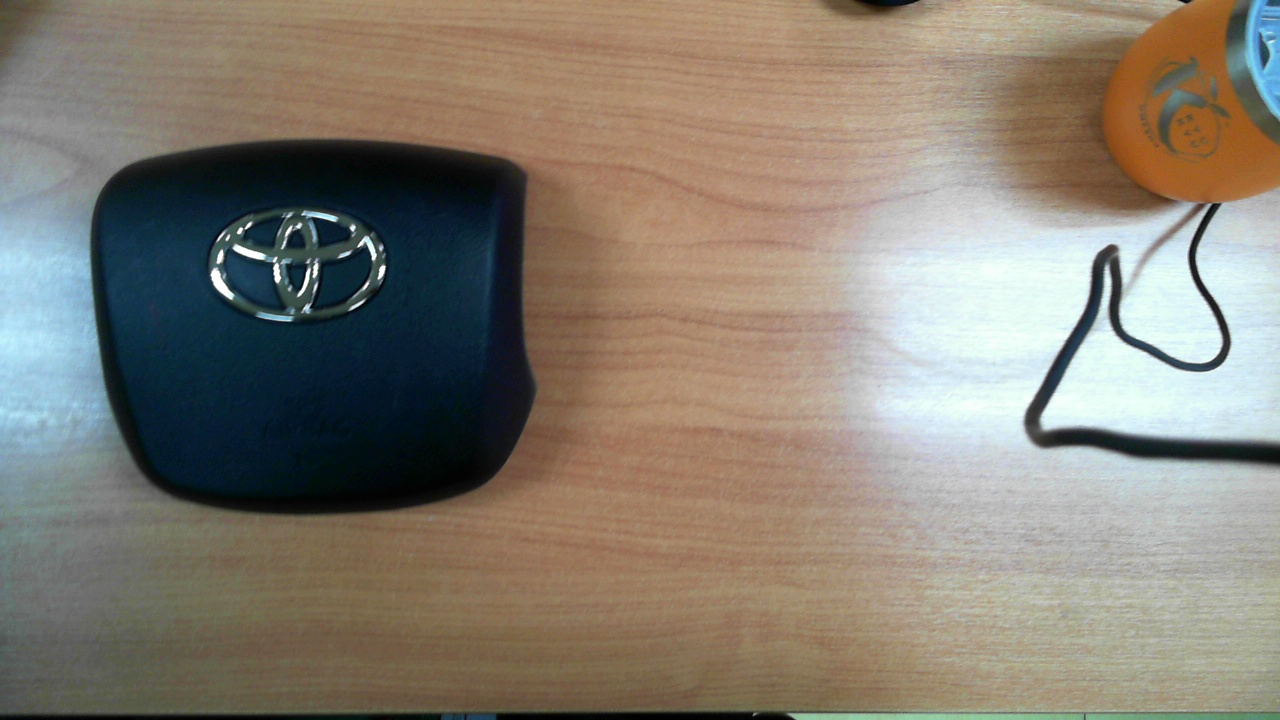Airbag: (89, 139, 537, 517)
Toyota: (208, 207, 382, 324)
